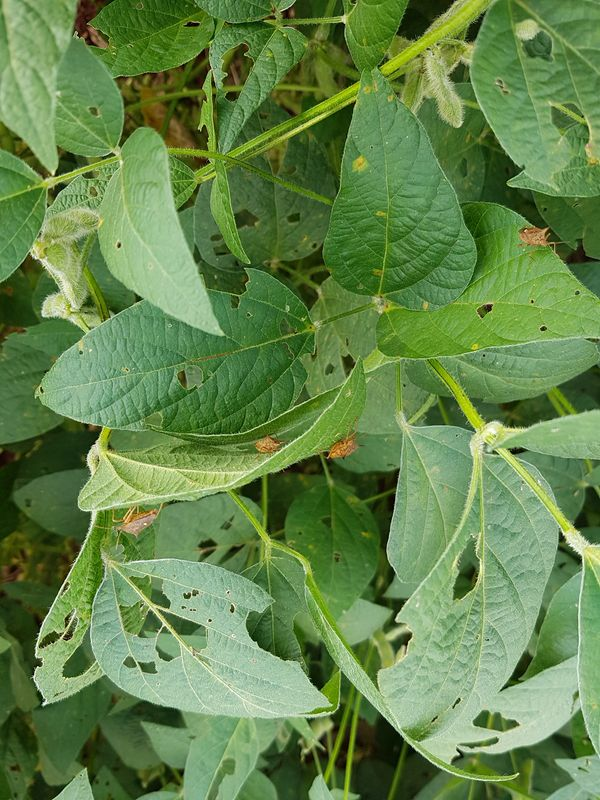Euschistus_heros_adulto: (95, 499, 169, 553), (315, 425, 367, 469), (512, 220, 560, 262), (249, 432, 286, 459)
